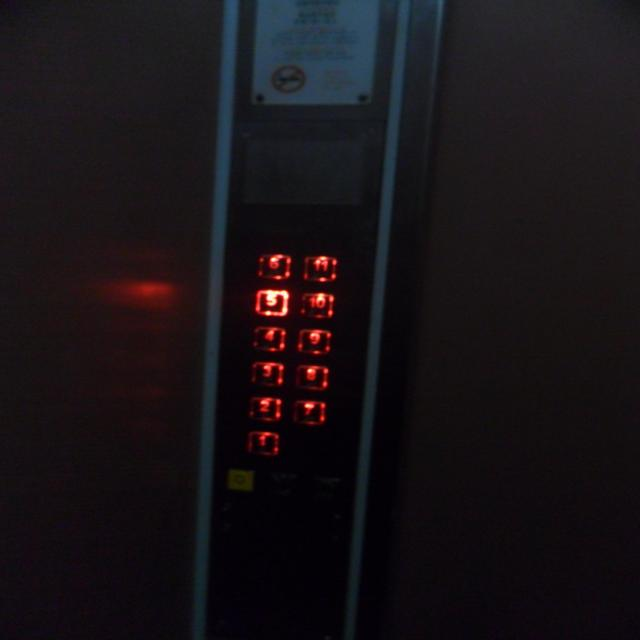1: (245, 431, 281, 456)
10: (298, 291, 334, 320)
11: (302, 254, 337, 282)
2: (248, 396, 283, 422)
3: (250, 361, 286, 386)
4: (251, 326, 286, 352)
5: (254, 288, 290, 316)
6: (257, 252, 292, 281)
7: (290, 399, 326, 425)
8: (293, 364, 329, 389)
9: (296, 328, 332, 357)
alarm: (221, 467, 256, 493)
